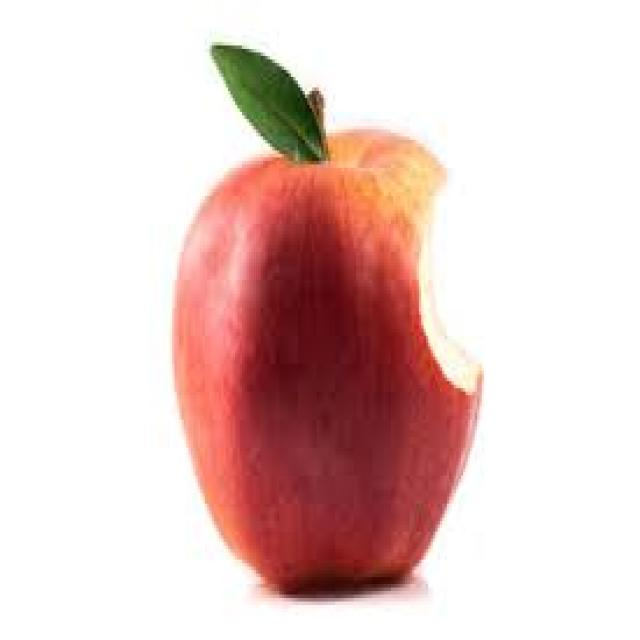Used Apple: (168, 130, 482, 594)
